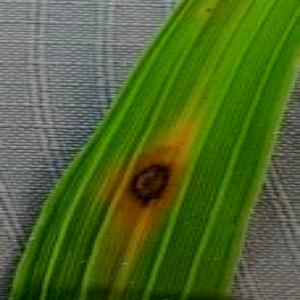0 BrownSpot: (118, 155, 183, 216), (202, 4, 217, 15)
